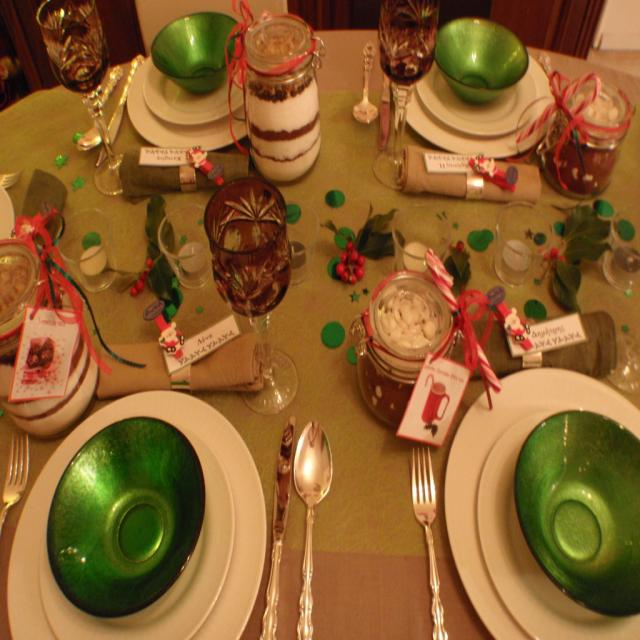non-organic waste: (464, 355, 640, 640)
